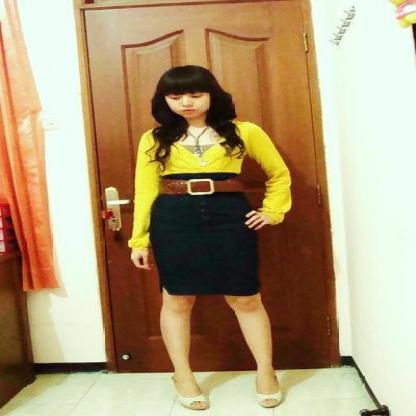jacket: (128, 121, 290, 250)
shirt: (174, 126, 224, 156)
shoe: (173, 387, 278, 406)
skirt: (147, 172, 259, 304)
